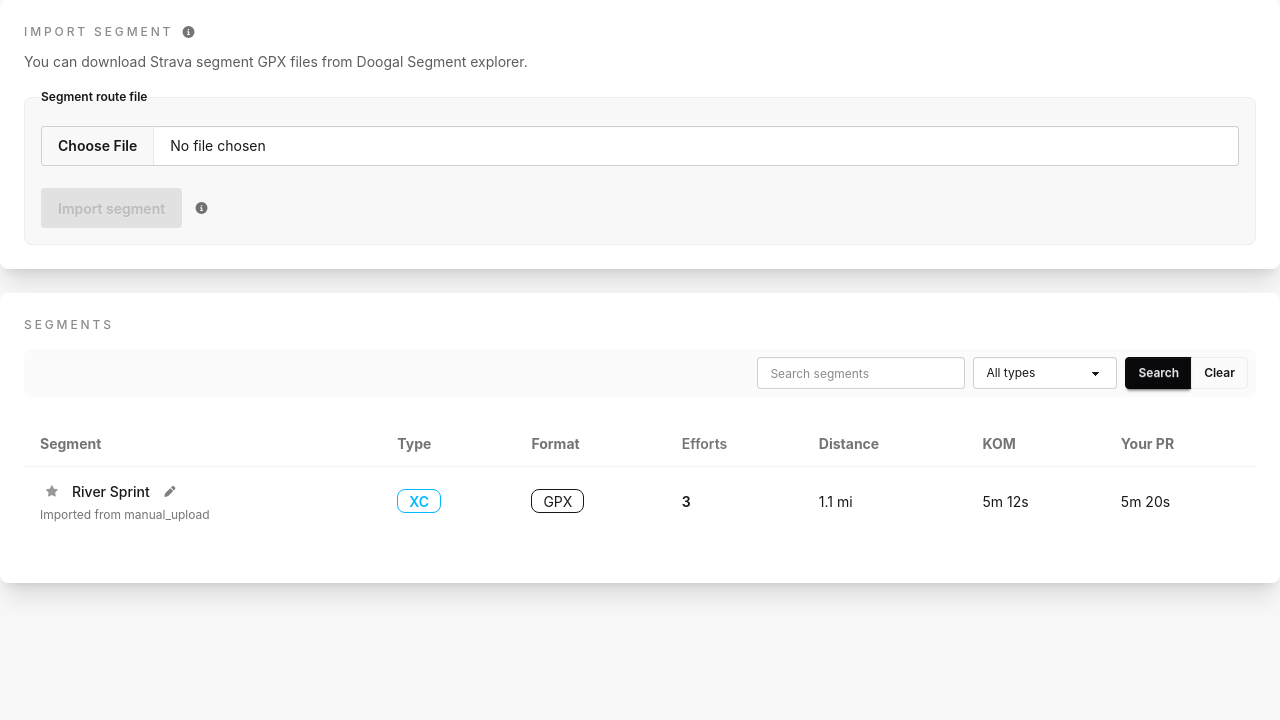
Scenario: SegmentsPanel › renames a segment from the library grid modal
Click the button named "Rename River Sprint" at (170, 491), box [158,479,182,503]
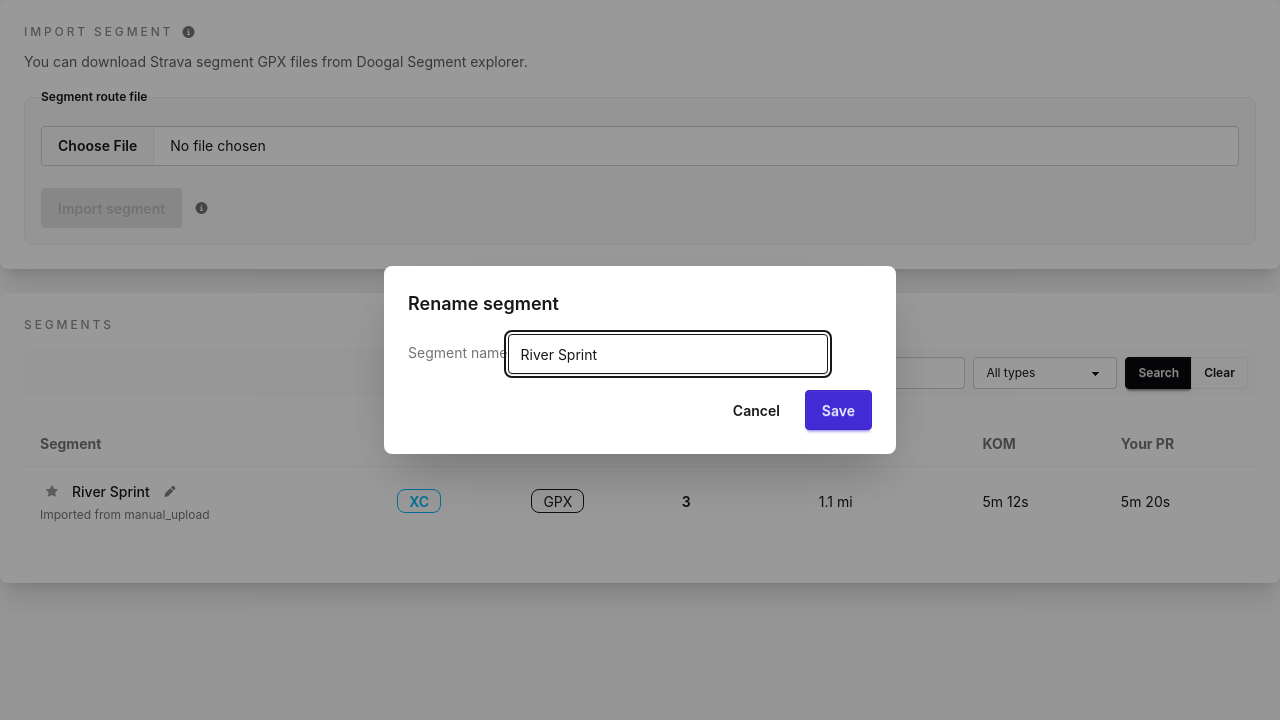
Expected: the dialog "Rename segment" is shown
Replace the text in the field labelled "Segment name" with "River Sprint East" at (668, 354), box [508,334,828,374]
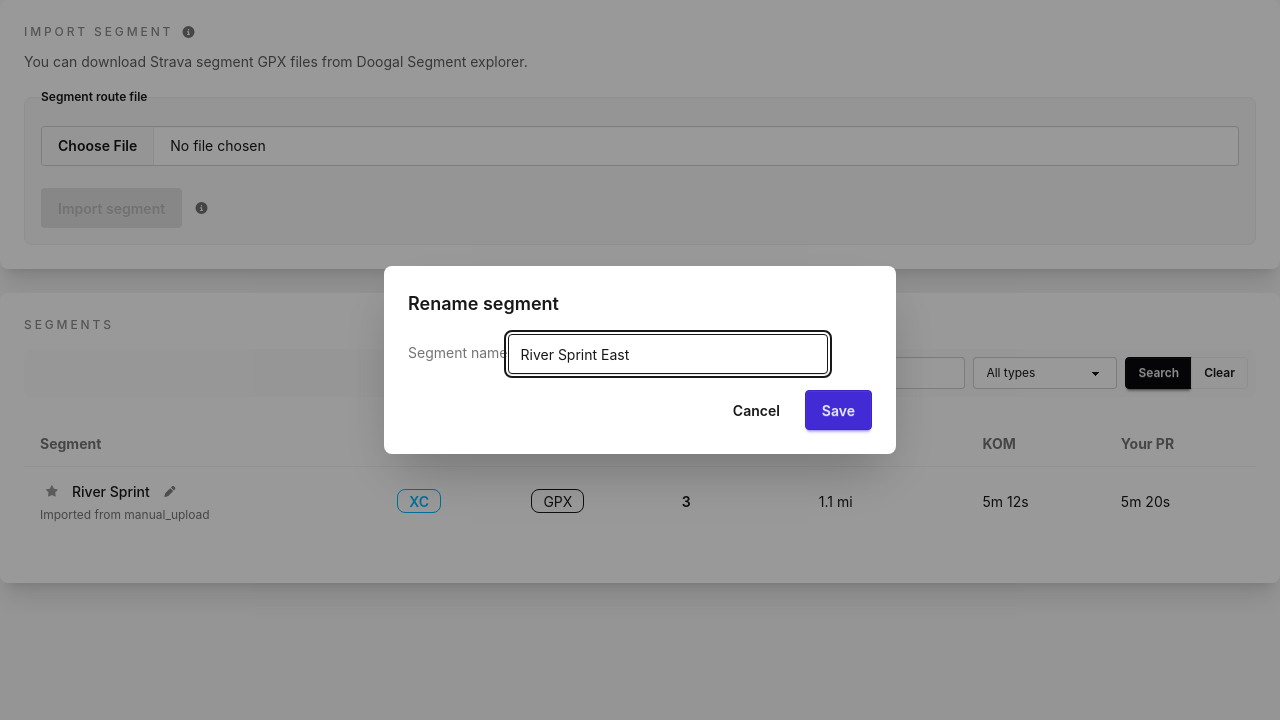
Click the button "Save" at (838, 410), box [805,390,872,430]
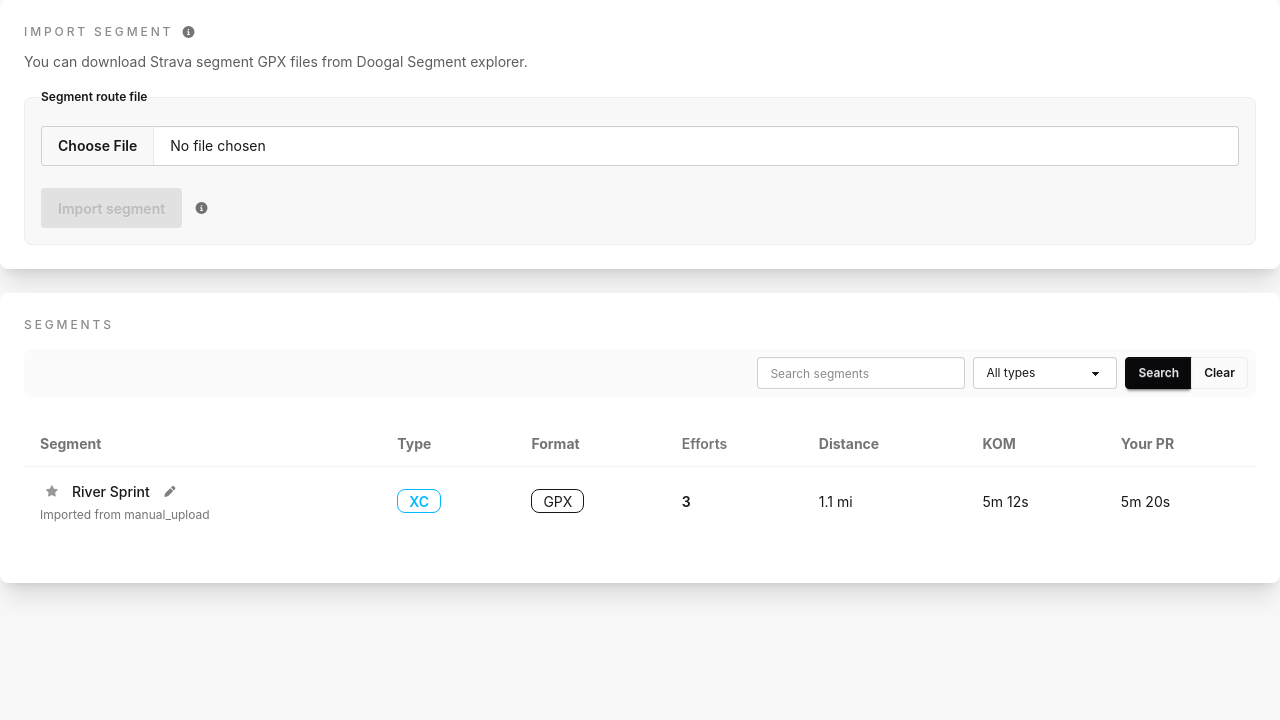
Expected: the dialog is gone
